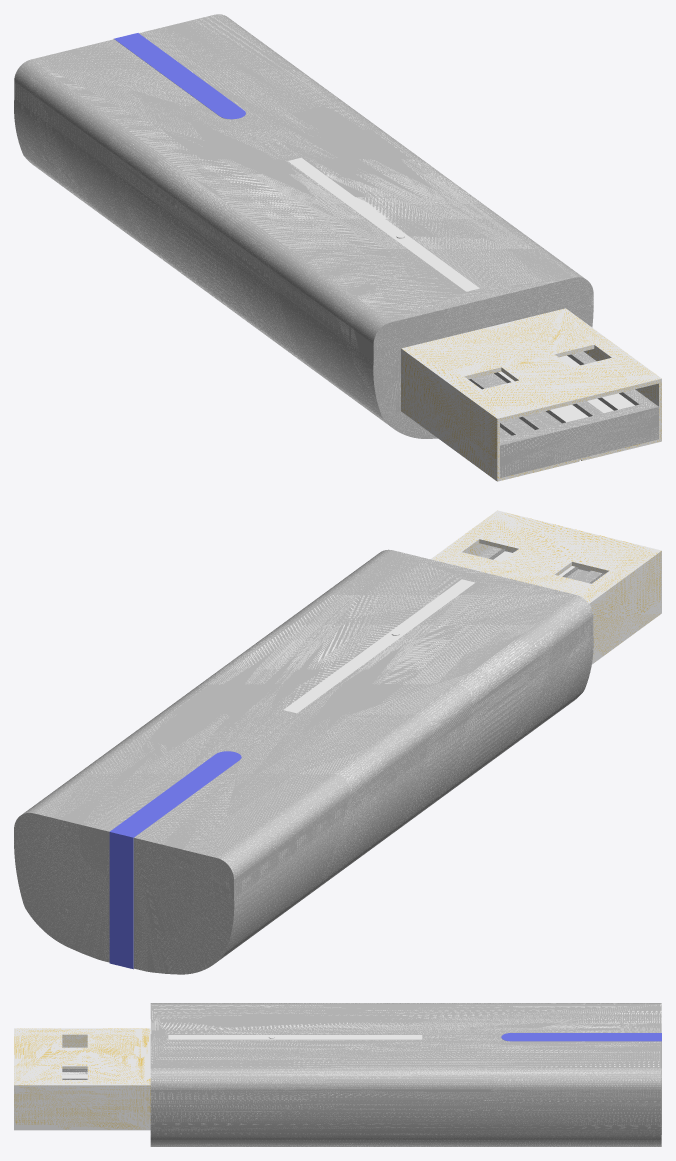
The model's file is original-16.obj.
3 views of the same model, one above another, from view 1: azimuth 30°, elevation 25°; view 2: azimuth 150°, elevation 25°; view 3: azimuth 270°, elevation 25° (orthographic). The views are drawn at different scales.
Parts seen in each view (by area): view 1: mesh37/mesh37-geometry#mesh37-geometry; view 2: mesh37/mesh37-geometry#mesh37-geometry; view 3: mesh37/mesh37-geometry#mesh37-geometry.
Boxes of the visible parts, x1,y1,x2,y2 form: mesh37/mesh37-geometry#mesh37-geometry: [14, 14, 661, 481]; mesh37/mesh37-geometry#mesh37-geometry: [14, 510, 661, 974]; mesh37/mesh37-geometry#mesh37-geometry: [14, 1003, 661, 1146].
Bounding box in the file's own units: 0.4498 × 0.258 × 1.61.
